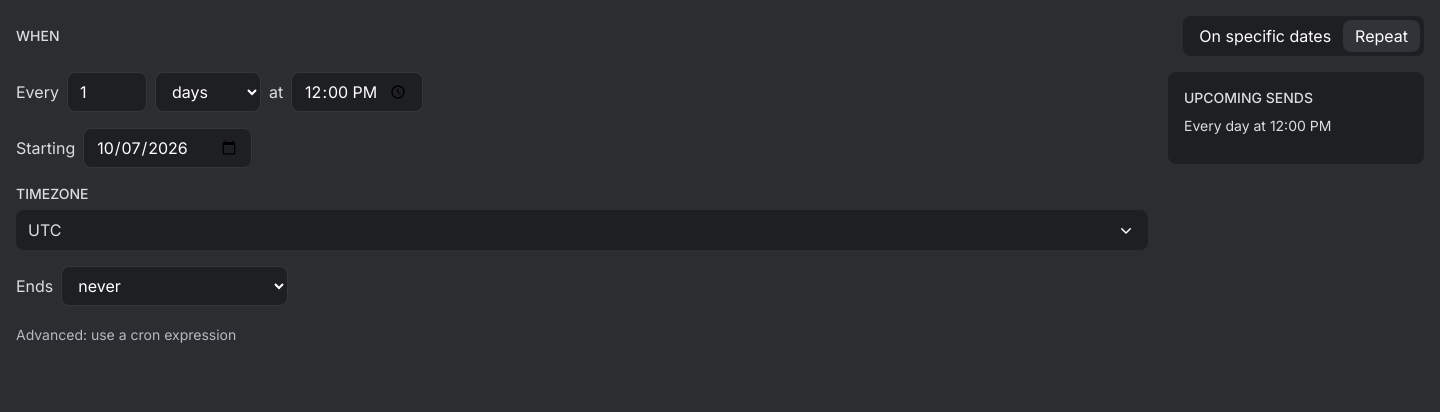
the last picked weekday stays picked
This screenshot has width=1440, height=412.
Select "weeks" in the dropdown named "Unit": {"x": 208, "y": 92} [155,72,261,112]
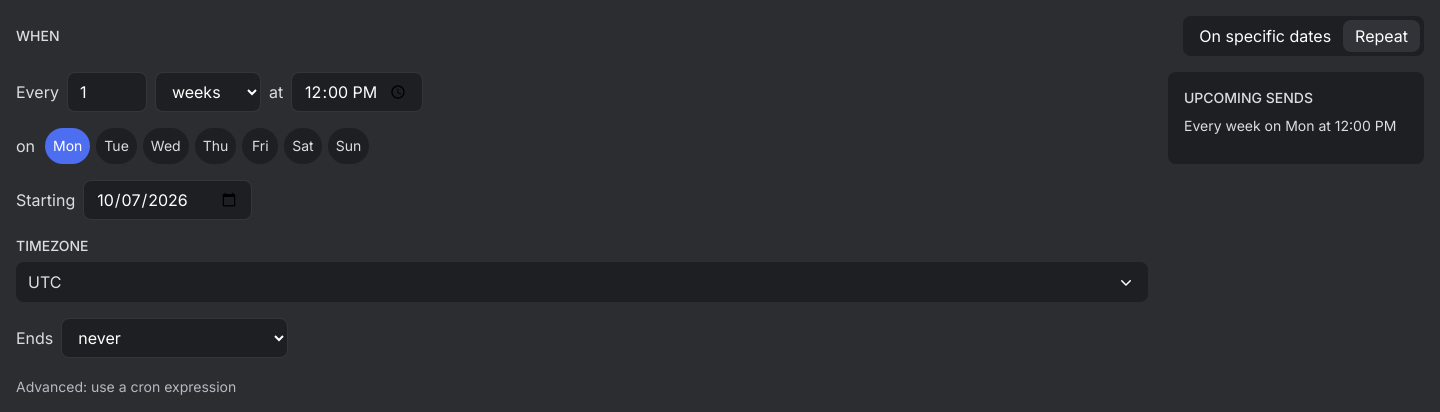
expect the button "Mon" is disabled: met, box [45,128,90,164]
